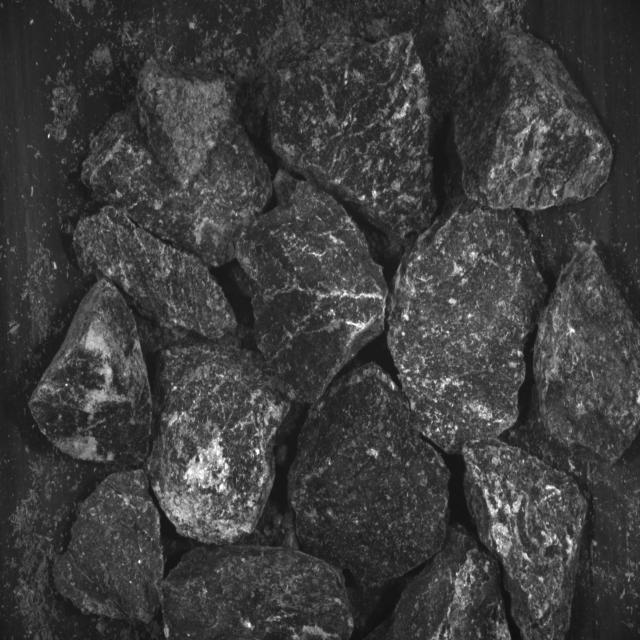Stones: (82, 60, 272, 267), (389, 208, 546, 453), (290, 365, 450, 588), (272, 34, 437, 240), (237, 183, 389, 404), (455, 33, 614, 211), (149, 346, 291, 545), (465, 441, 587, 640), (535, 243, 640, 465), (30, 279, 152, 465), (75, 207, 237, 340), (164, 547, 355, 640), (54, 471, 165, 624), (371, 526, 511, 640), (370, 151, 372, 153)
